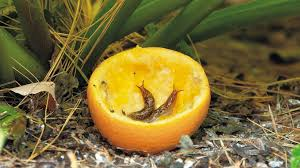slug: (148, 88, 180, 122), (127, 82, 154, 121)
